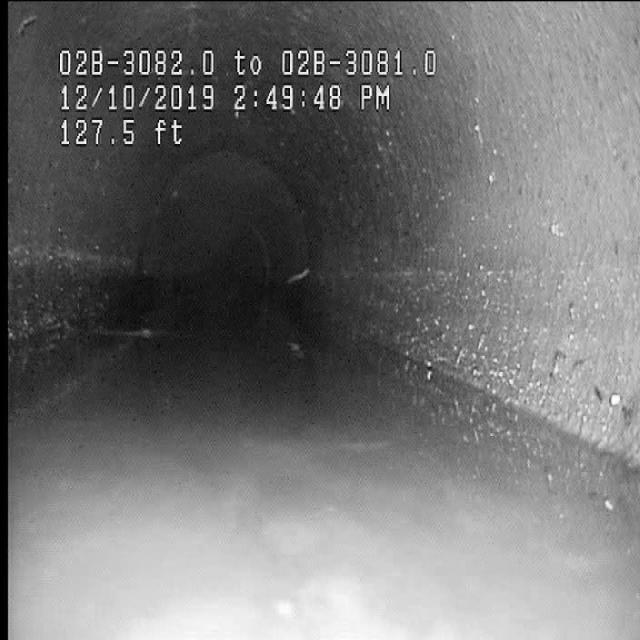Crack: (530, 310, 626, 444)
